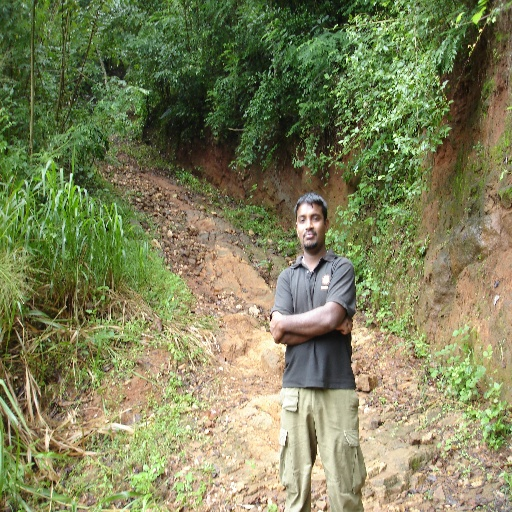hand: (268, 308, 281, 343), (338, 316, 352, 335)
